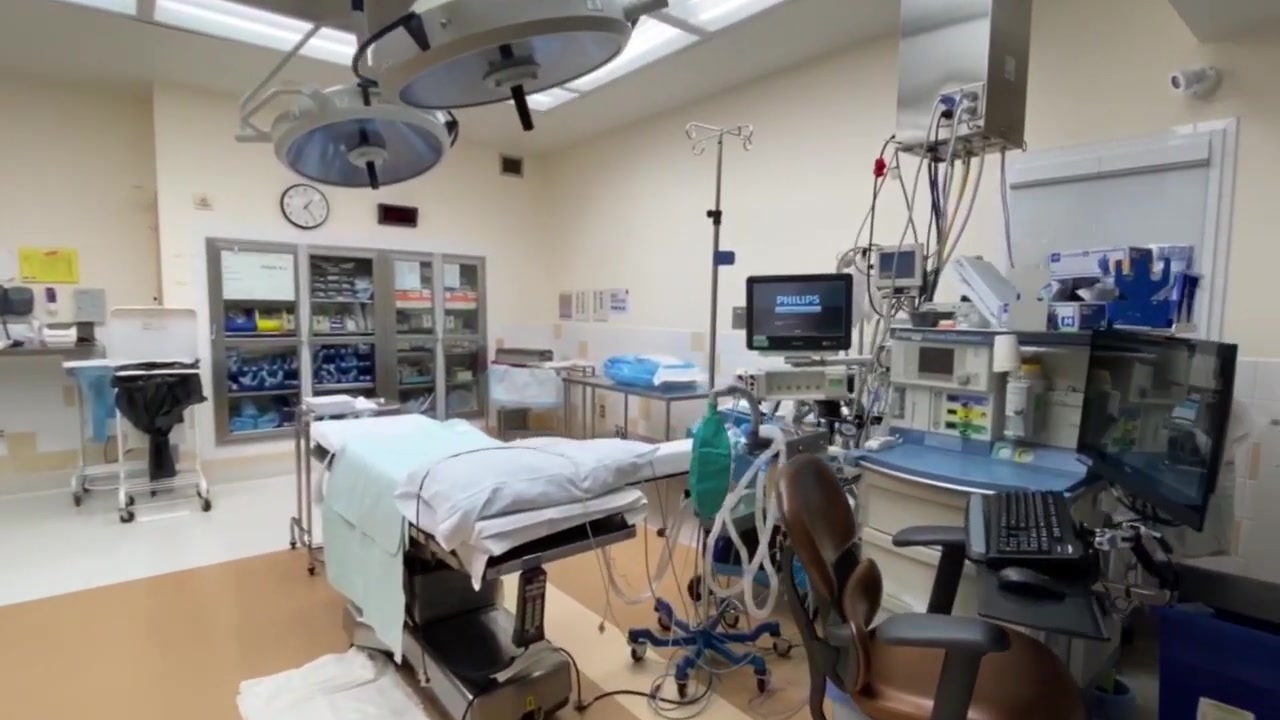bedside_monitor: (745, 273, 854, 355), (870, 244, 922, 284)
breathing_tube: (697, 420, 793, 656)
cabinet: (204, 236, 491, 425)
chair: (775, 453, 1081, 720)
computer: (1076, 328, 1238, 534)
iv_pole: (682, 106, 756, 392)
keyboard: (982, 488, 1080, 564)
medical_drawer: (856, 440, 1082, 614)
mouse: (996, 565, 1053, 598)
operating_bed: (310, 413, 696, 717)
surgical_light: (336, 1, 665, 132), (269, 82, 461, 192)
utility_cart: (286, 393, 393, 554), (562, 374, 700, 445)
waste_bin: (109, 365, 221, 533), (58, 359, 113, 510)
